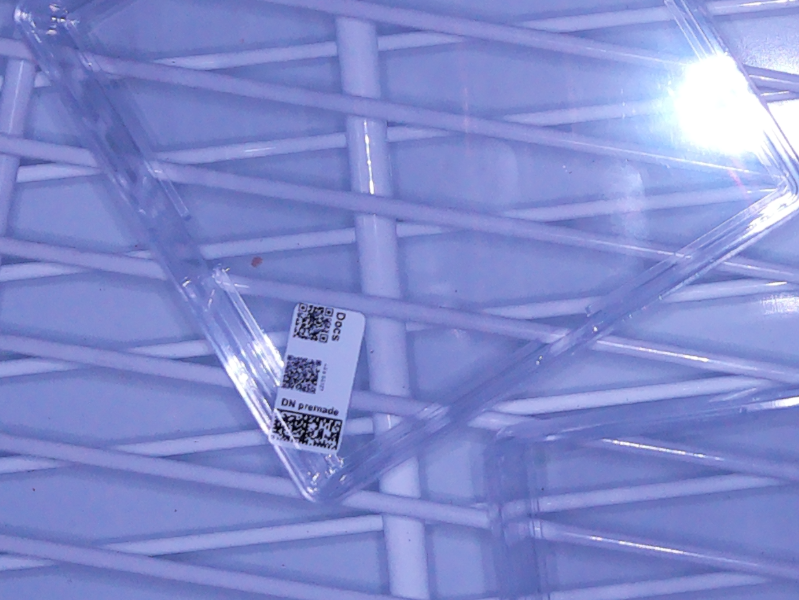plate: (14, 1, 799, 506), (479, 379, 799, 600)
